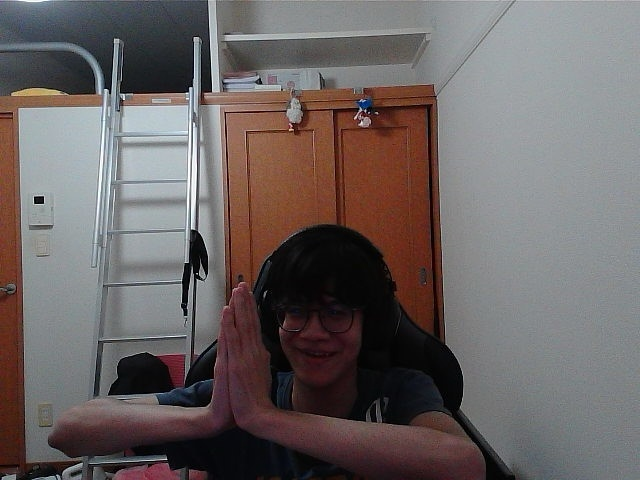pray: (224, 297, 266, 400)
